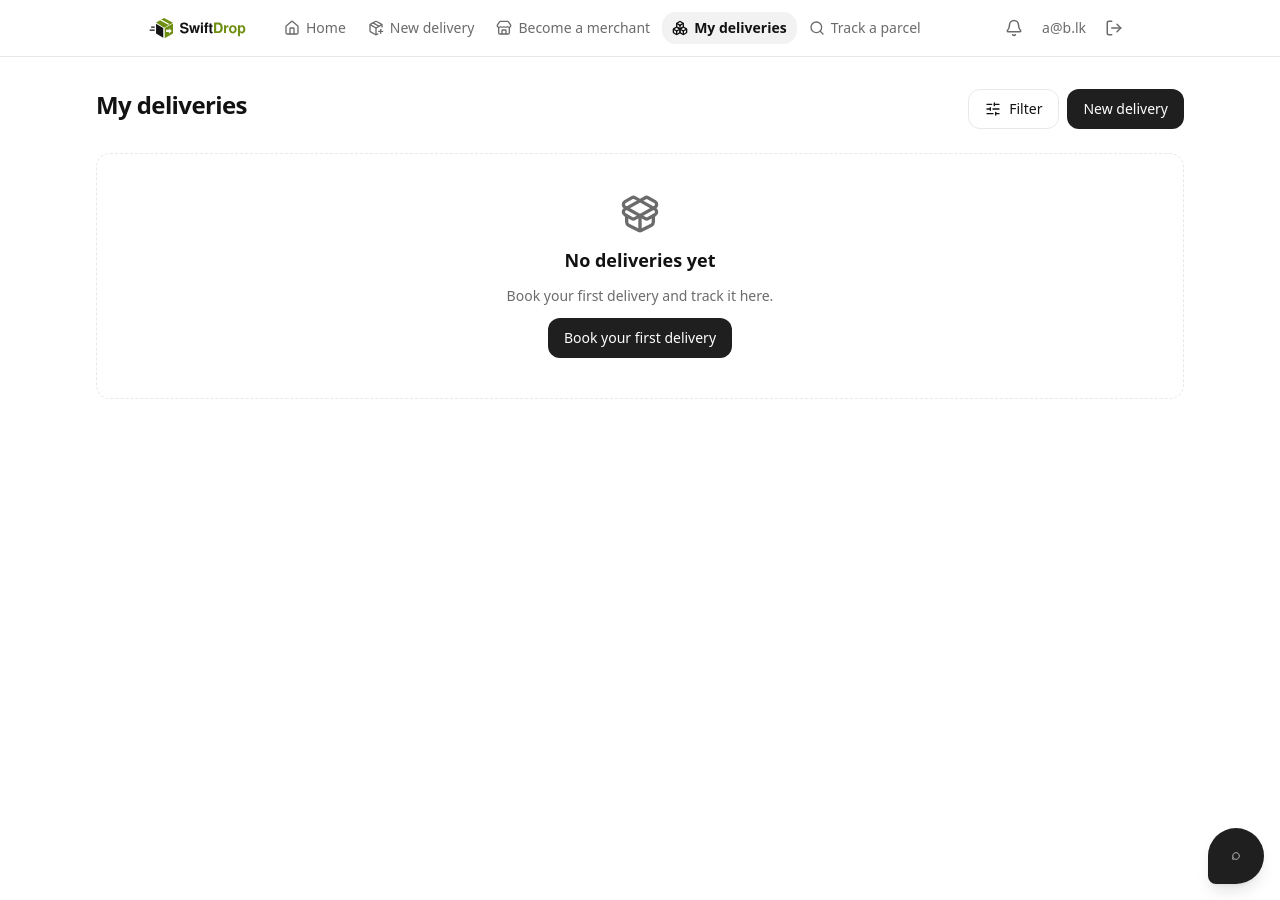
it: assistant widget › rehydrates a saved conversation, and forgets one that is not found
The image size is (1280, 900).
Click the button named "Open assistant" at (1236, 856), box [1208,828,1264,884]
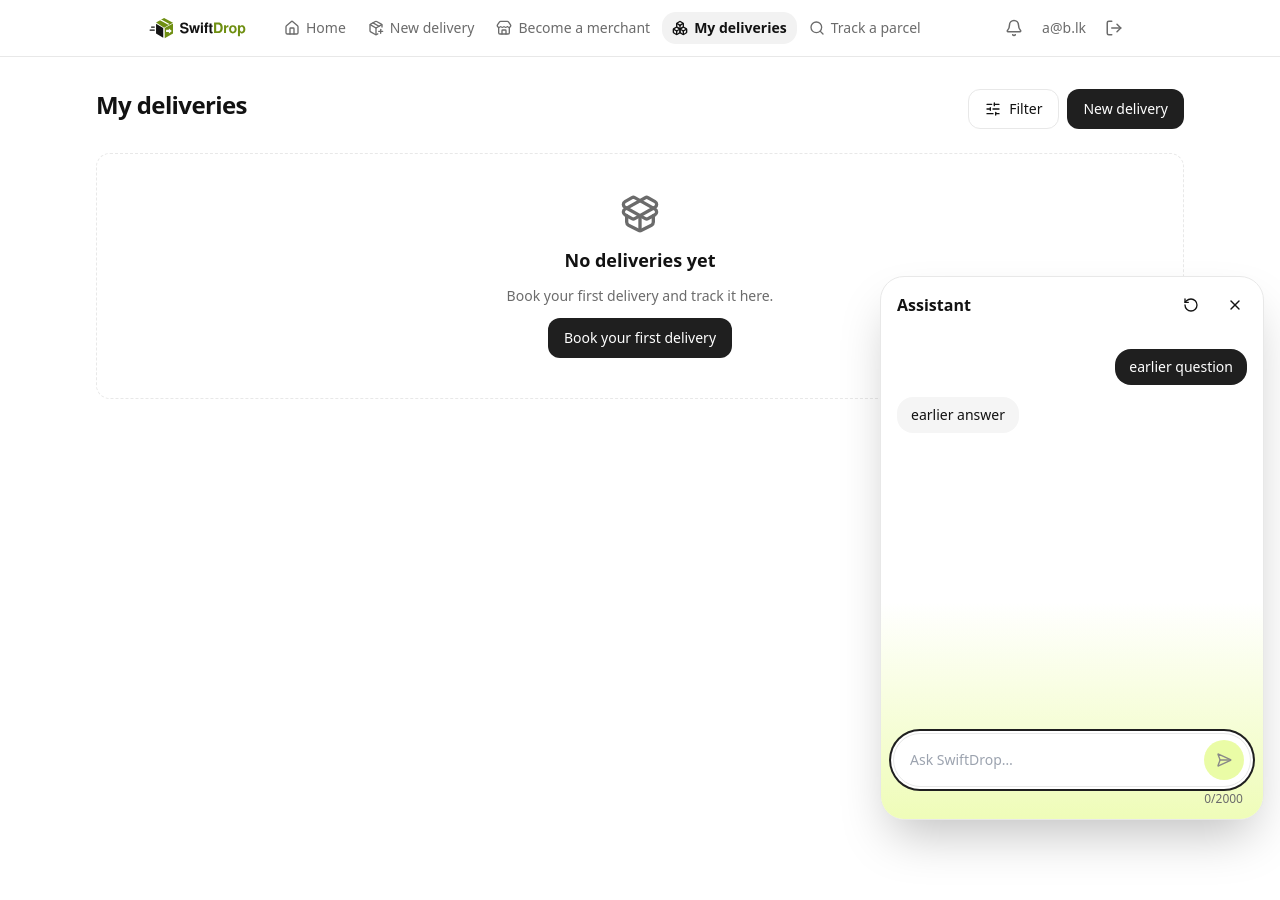
Expected: the text "earlier answer" is shown, [911,405,1005,425]
